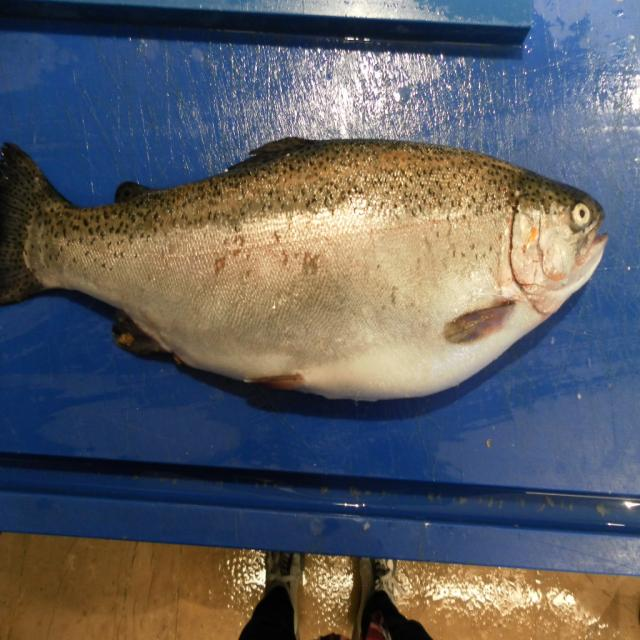Trout-alabalik-: (1, 138, 608, 399)
